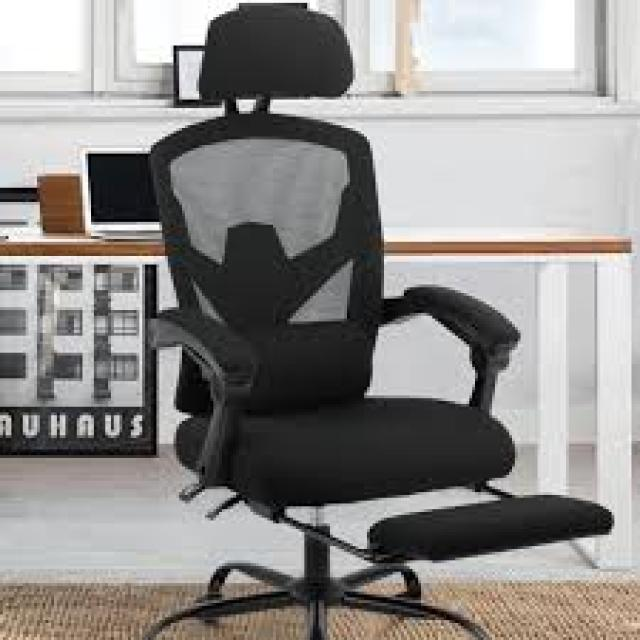chair: (98, 0, 626, 640)
